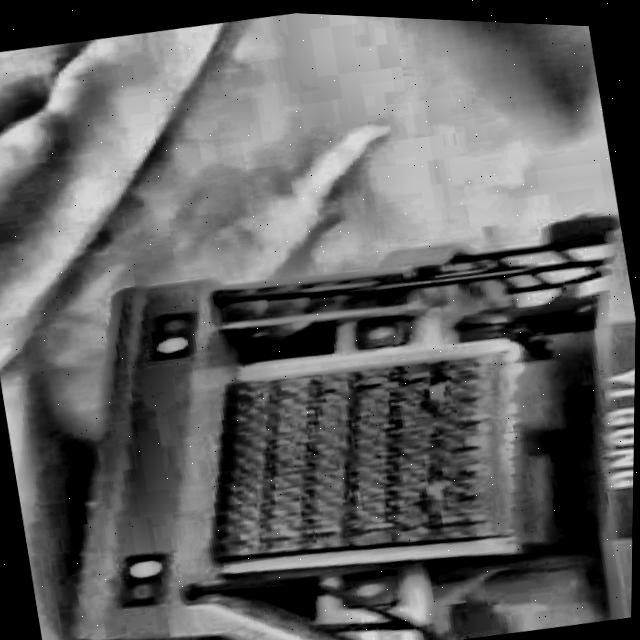dump_truck: (0, 176, 638, 640)
